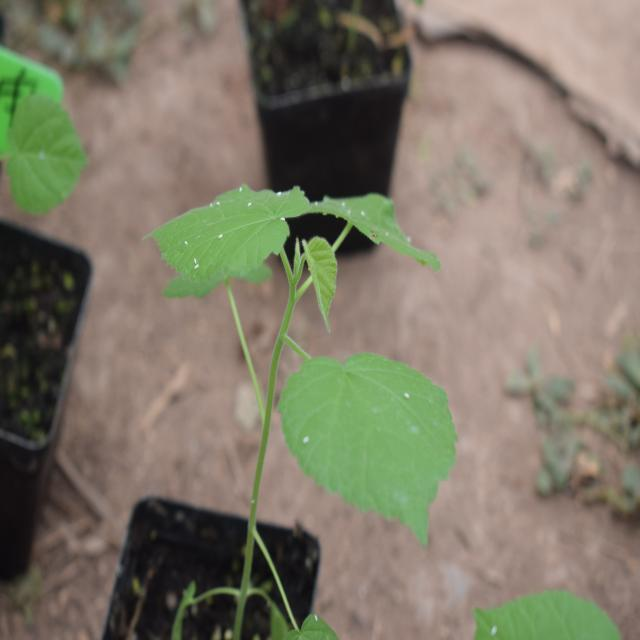abutilon theophrasti: (149, 152, 477, 554)
